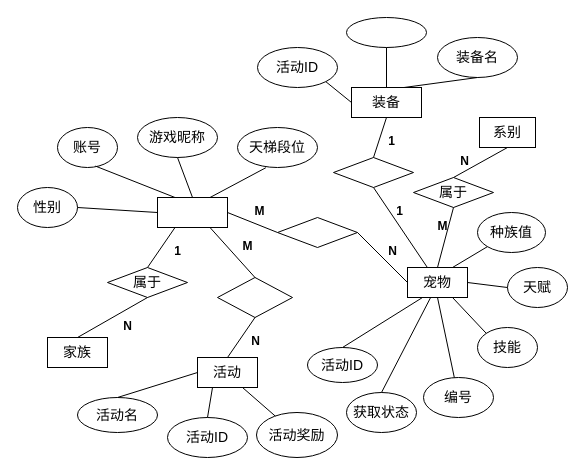
This 585x475 diagram has some shape labels left out. Each missing label, with the centre of its shape:
"参加" belongs at [254,297].
"效果" belongs at [386,32].
"玩家" belongs at [192,212].
"穿戴" belongs at [373,172].
"获得" belongs at [317,232].
